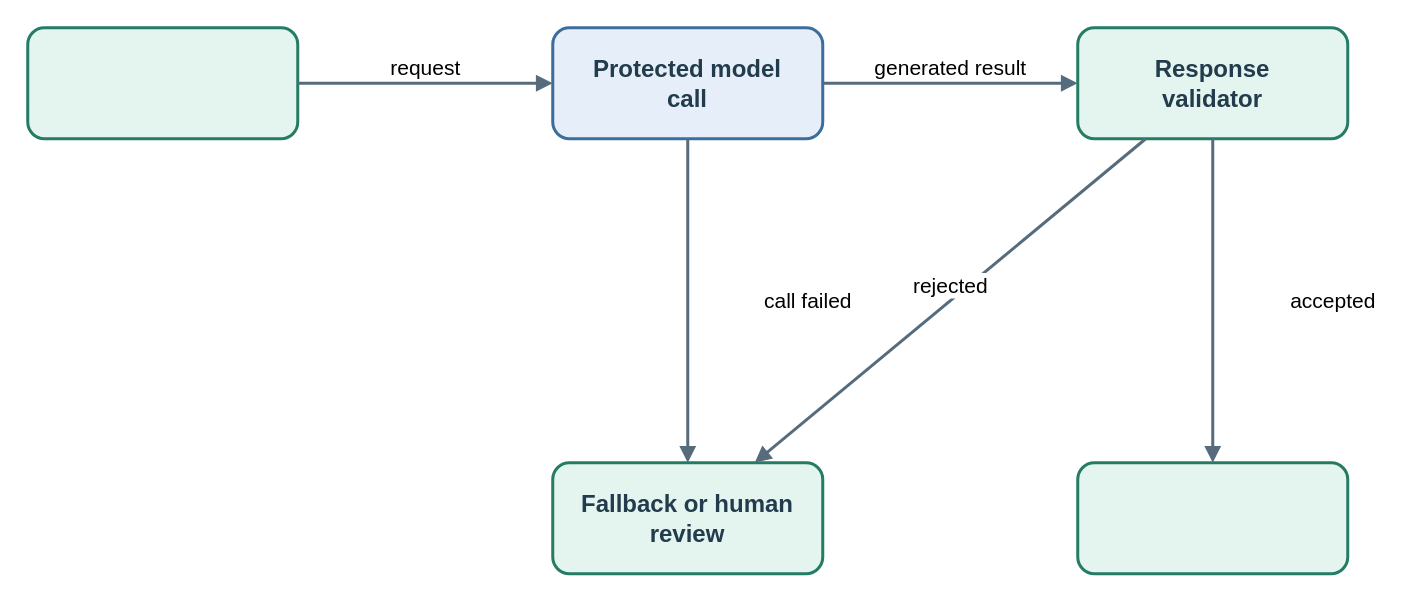
Image size: 1401x600. Some labels were removed from this diagram. The shapes that lost their labels are listed below. From the top down, each one's centre as x and y in pixels, then its label:
At (x=162, y=83): "Application".
At (x=1212, y=517): "Approved business action".
